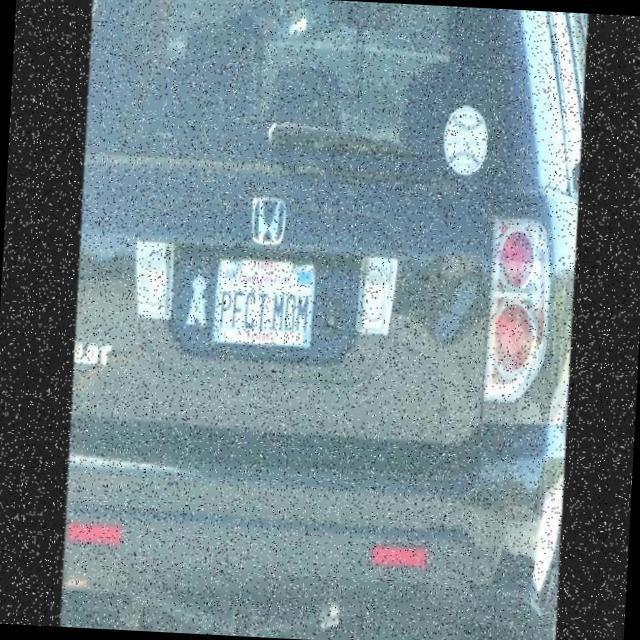License Plate: (204, 242, 330, 374)
